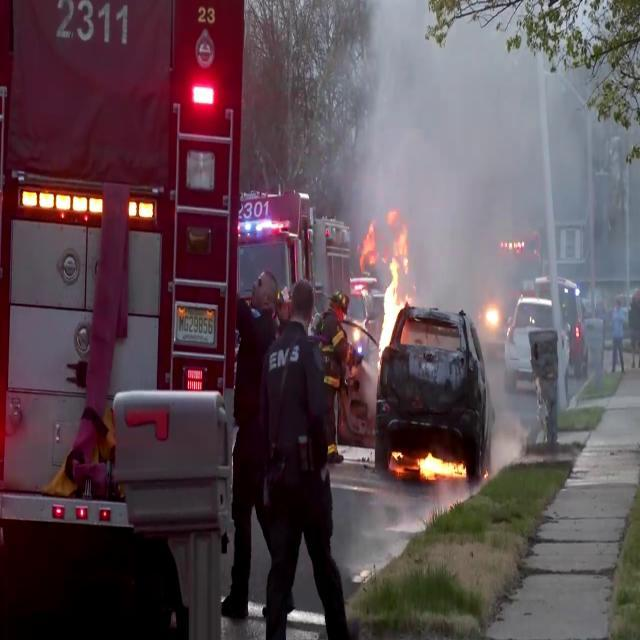Fire: (376, 216, 406, 364), (390, 446, 464, 484)
Smoke: (332, 2, 640, 334)
